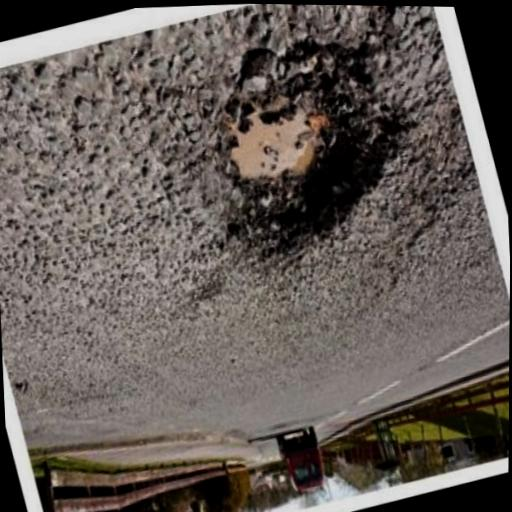pothole: (206, 84, 512, 159)
